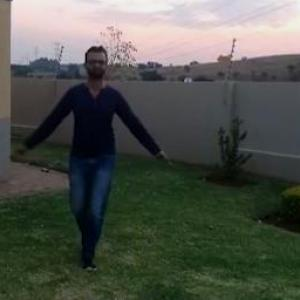land: (35, 57, 150, 256)
